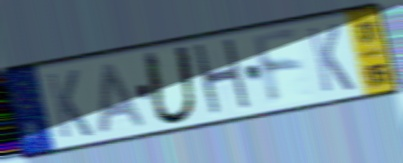A: (97, 60, 148, 137)
F: (249, 27, 307, 110)
H: (190, 35, 256, 121)
K: (305, 21, 357, 96), (44, 67, 96, 142)
U: (140, 43, 202, 128)
